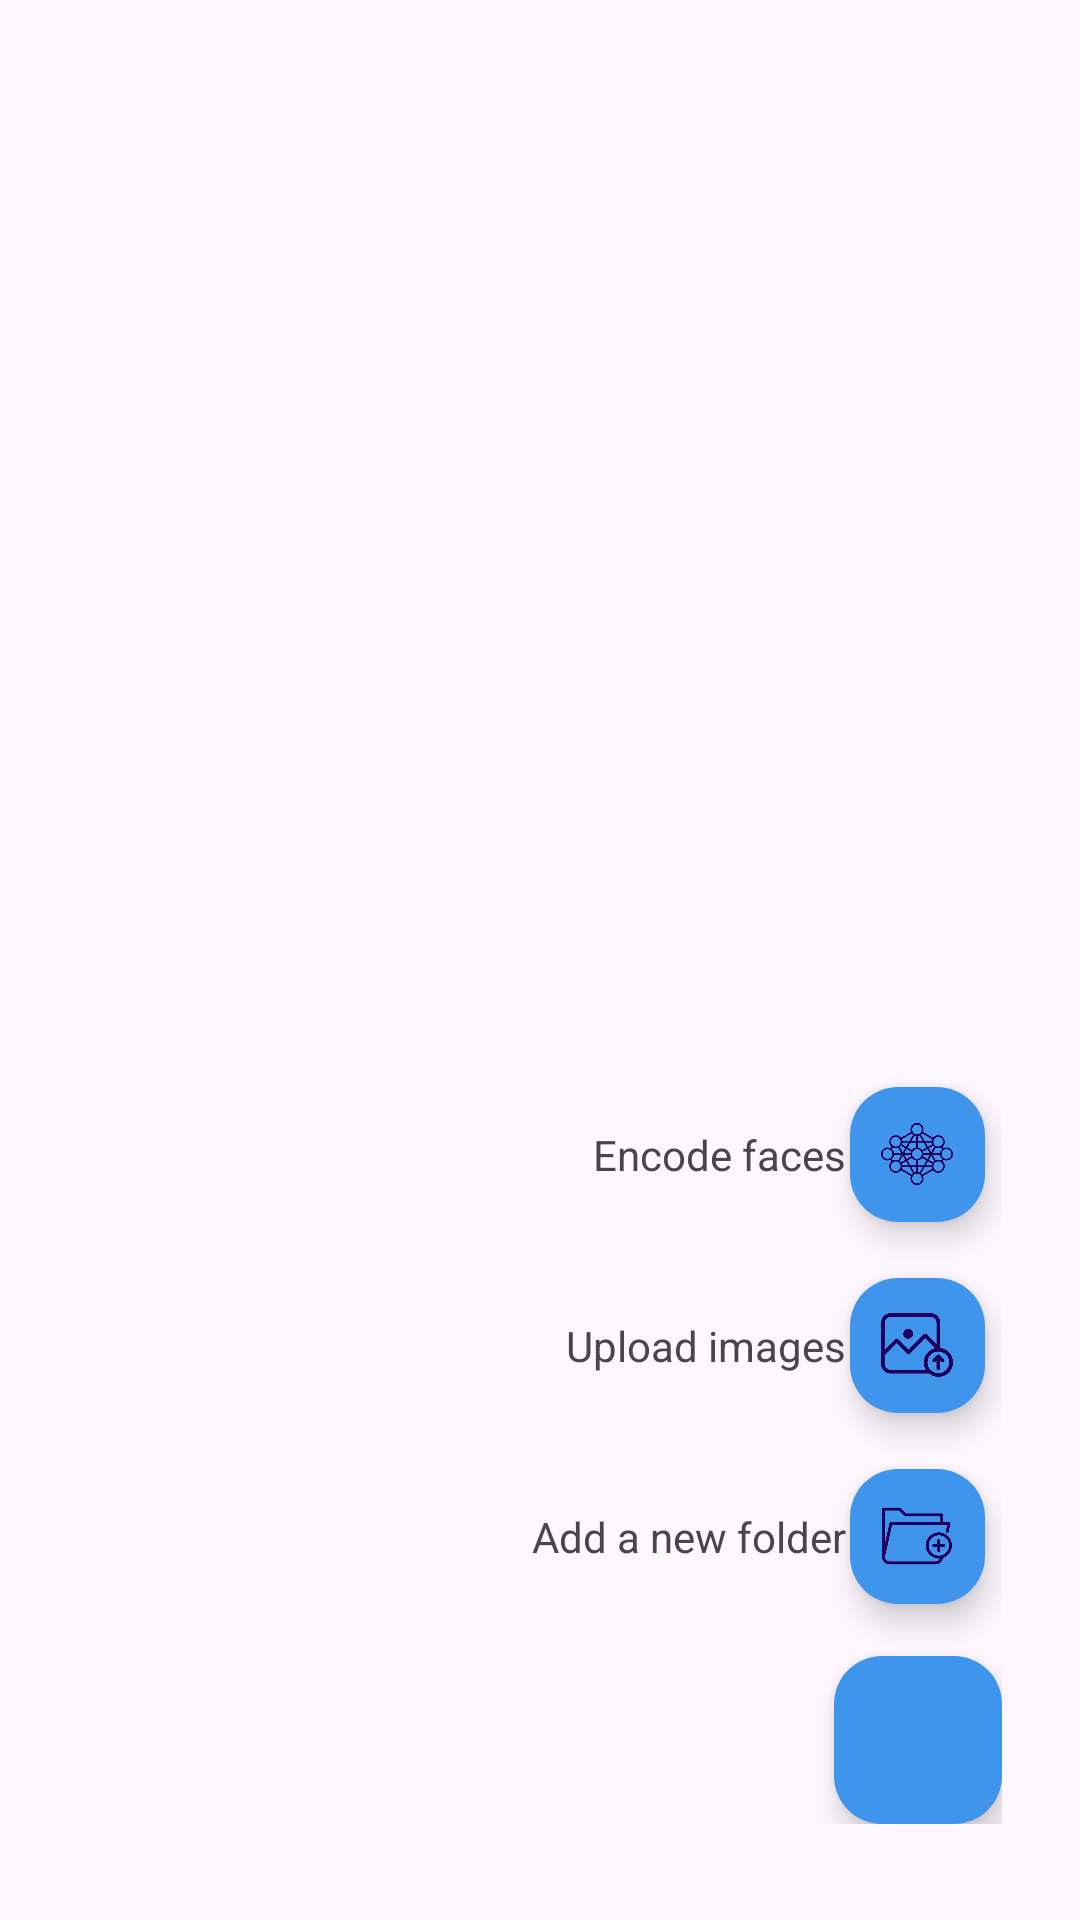

Where to tap for icons on this 1080 x 1920 app screen, as [x,y]:
encoder: [918,1156]
